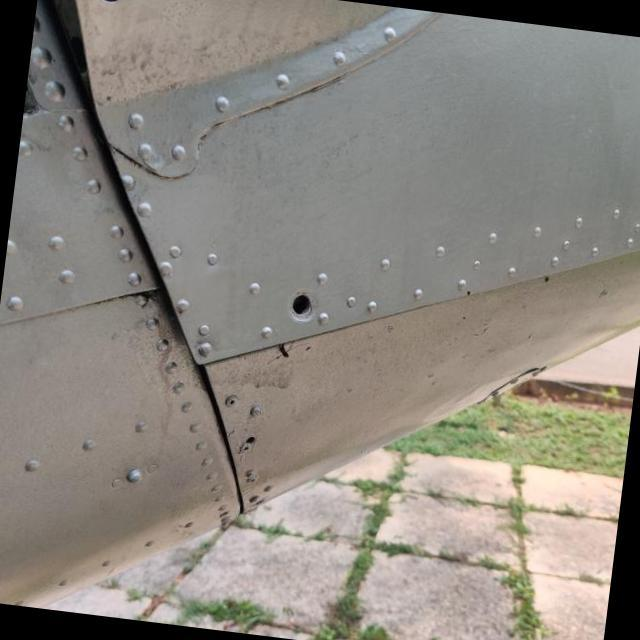Fastener Damage: (255, 252, 358, 362), (65, 0, 166, 57)
